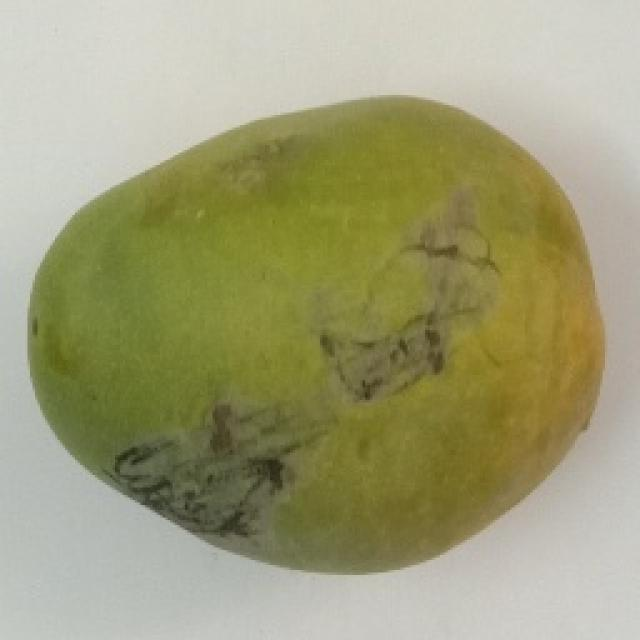defective: (25, 90, 605, 575)
